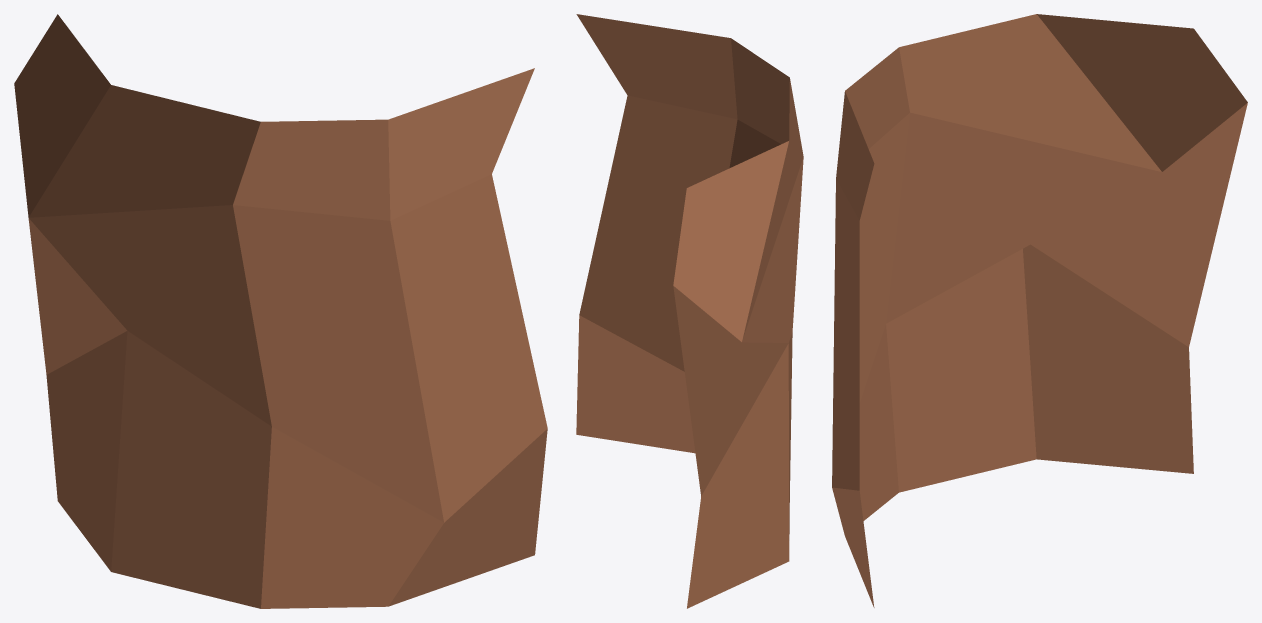
The model's file is Corner Center.fbx.
The picture shows the model from 3 angles, left to right: view 1: azimuth 30°, elevation 25°; view 2: azimuth 150°, elevation 25°; view 3: azimuth 270°, elevation 25°; orthographic projection. The views are drawn at different scales.
Parts seen in each view (by area): view 1: Corner Center; view 2: Corner Center; view 3: Corner Center.
Boxes of the visible parts, x1,y1,x2,y2 form: Corner Center: (14,14,547,608); Corner Center: (576,14,803,608); Corner Center: (832,14,1247,607).
Size of the model in its own units: 38 by 50 by 42.32.
